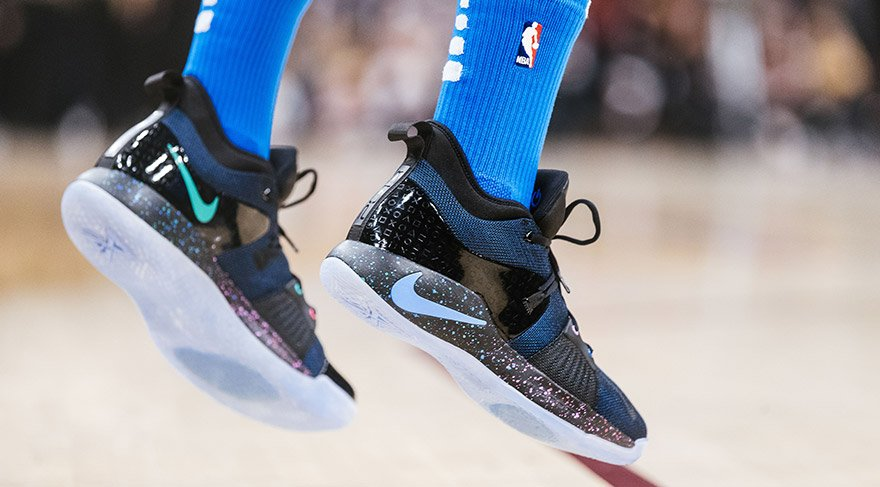nike: (391, 270, 489, 335), (166, 144, 223, 225)
